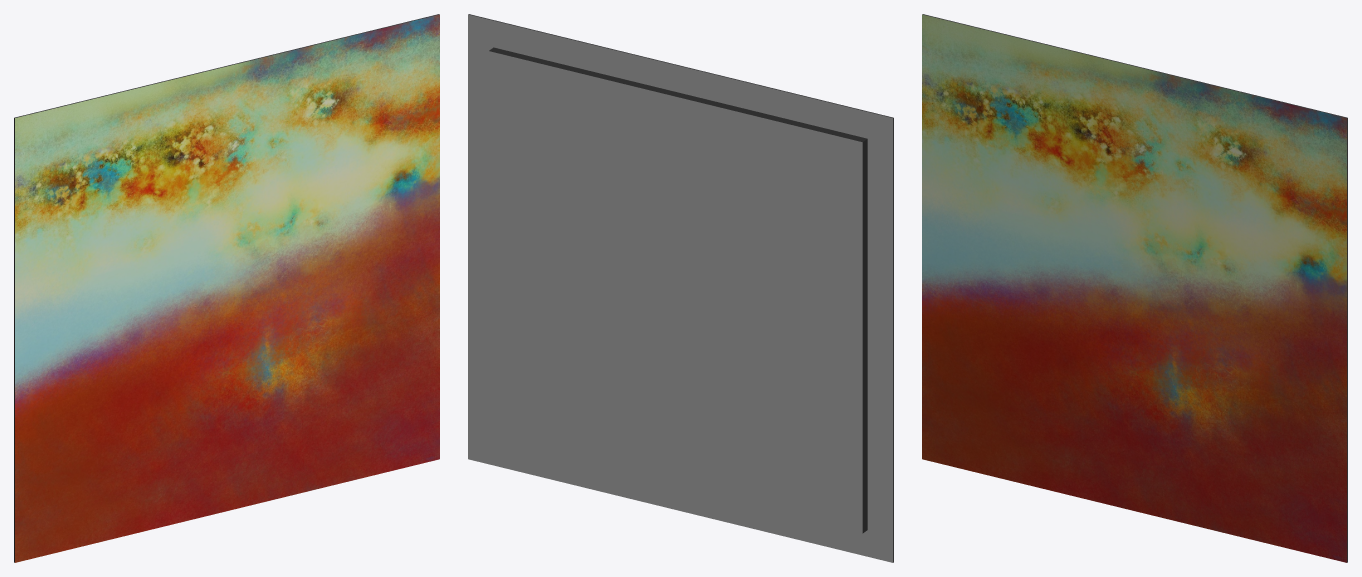
File: va273_grand_dibond.glb
The picture shows the model from 3 angles, left to right: view 1: azimuth 30°, elevation 25°; view 2: azimuth 150°, elevation 25°; view 3: azimuth 330°, elevation 25°; orthographic projection.
Visible parts, largest first — view 1: va273_grand_dibond; view 2: va273_grand_dibond; view 3: va273_grand_dibond.
Part boxes in pixels (<box>): va273_grand_dibond: <box>14,14,439,562</box>; va273_grand_dibond: <box>468,14,893,562</box>; va273_grand_dibond: <box>922,14,1347,562</box>.
Bounding box in the file's own units: 1 × 1 × 0.023.
Materials: 4 (1 with a texture image).
